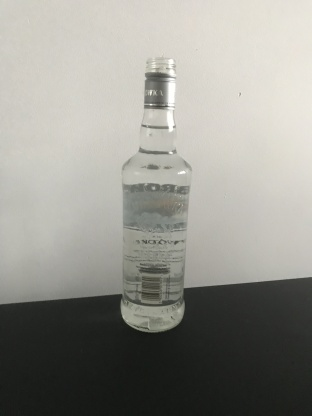nakretka: (141, 55, 177, 112)
